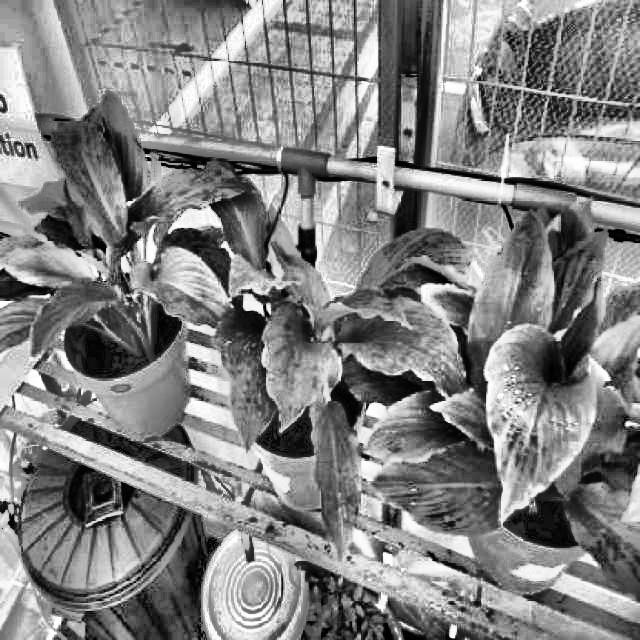plants: (140, 154, 472, 563), (364, 193, 638, 610), (0, 87, 255, 364)
